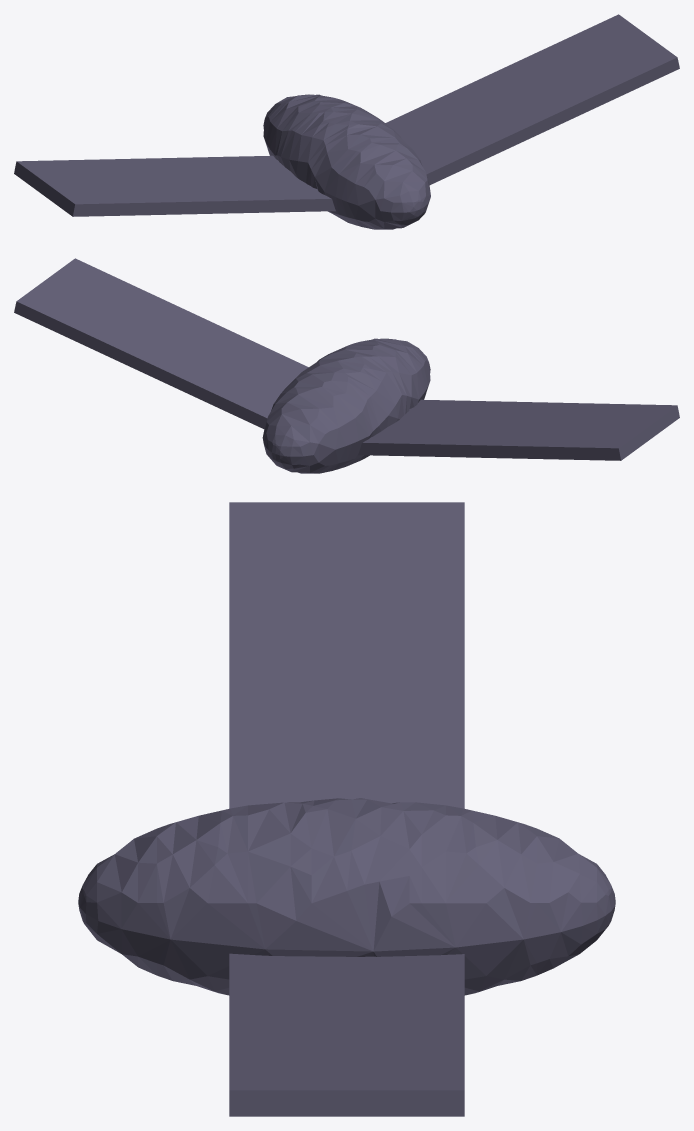
The model's file is bird.glb.
3 renders of one model, top to bottom at view 1: azimuth 30°, elevation 25°; view 2: azimuth 150°, elevation 25°; view 3: azimuth 270°, elevation 25°, orthographic. The views are drawn at different scales.
Visible parts, largest first — view 1: bird; view 2: bird; view 3: bird.
Boxes of the visible parts, bbox=[...] form: bird: bbox=[14, 14, 679, 229]; bird: bbox=[14, 258, 679, 473]; bird: bbox=[78, 502, 615, 1116].
Size of the model in its own units: 2.09 by 0.3224 by 0.8.
